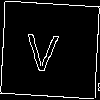V: (25, 24, 60, 72)
